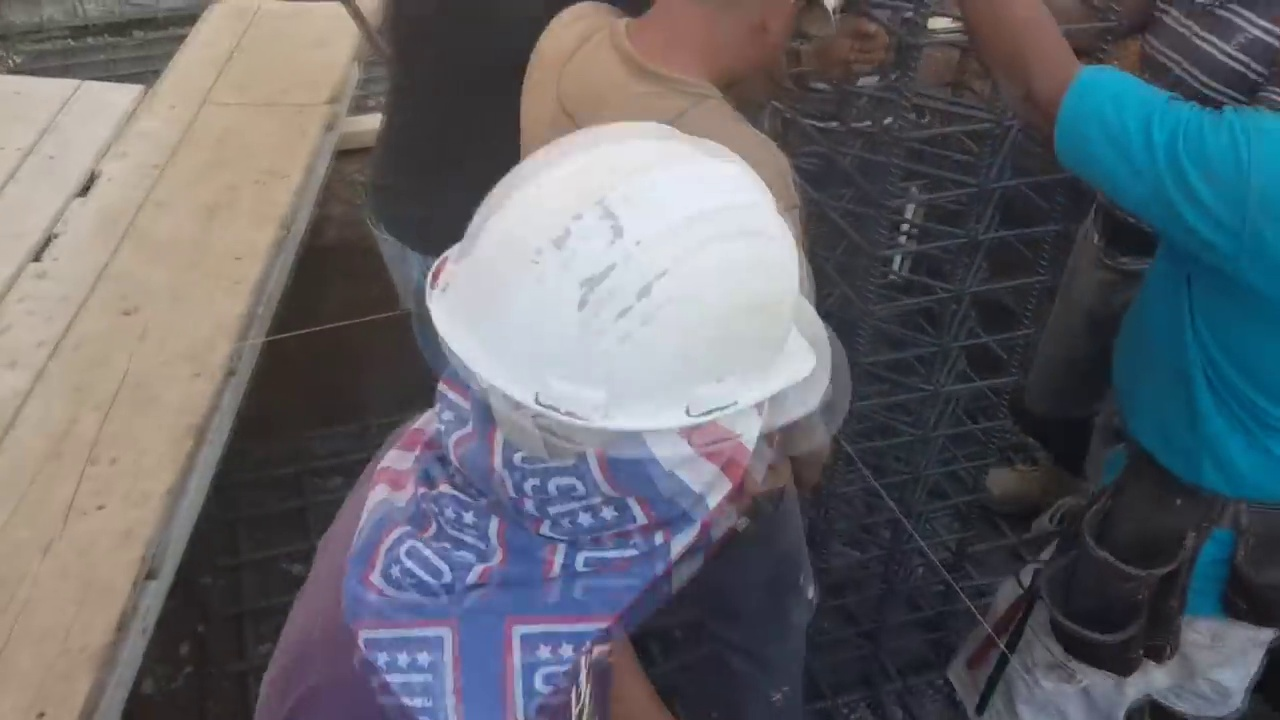helmet: (424, 118, 816, 444)
helmet-off: (615, 2, 830, 95)
helmet-on: (332, 117, 836, 660)
person: (244, 116, 838, 718), (943, 2, 1280, 717), (986, 2, 1278, 519), (514, 2, 858, 306)
